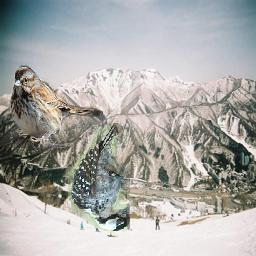Sparrow: (11, 66, 104, 149)
Woodpecker: (68, 123, 130, 231)
